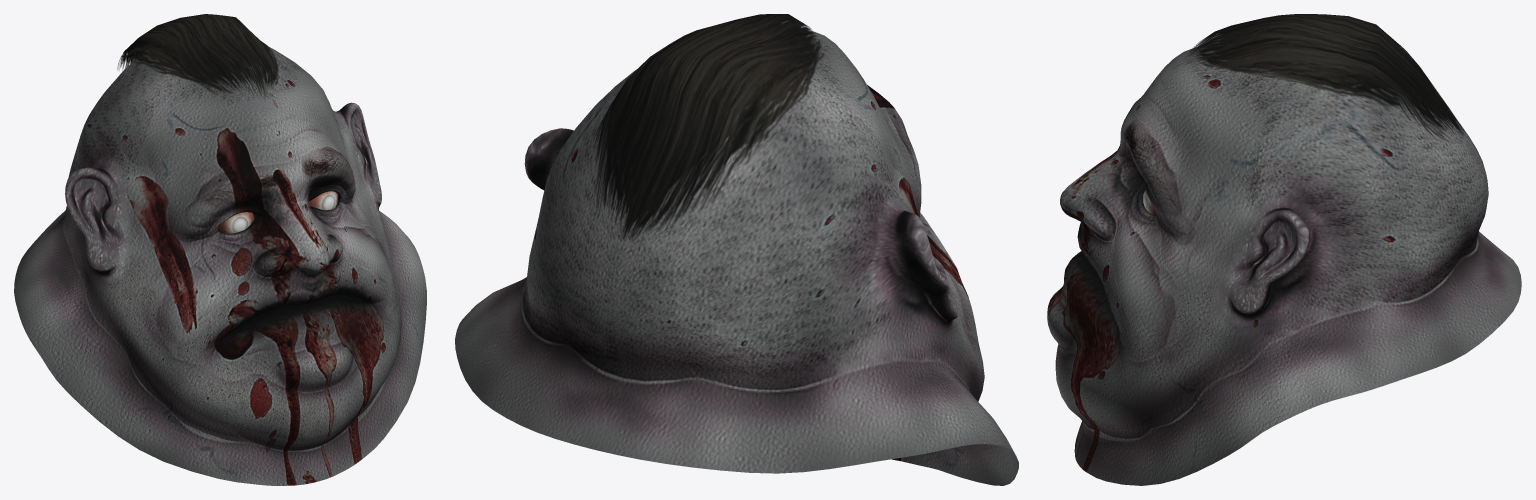
The model's file is zmb_hd.glb.
The picture shows the model from 3 angles, left to right: view 1: azimuth 30°, elevation 25°; view 2: azimuth 150°, elevation 25°; view 3: azimuth 270°, elevation 25°; orthographic projection. The views are drawn at different scales.
Parts seen in each view (by area): view 1: Object_2; view 2: Object_2; view 3: Object_2.
Boxes of the visible parts, left/top/right/bottom form: Object_2: left=14, top=14, right=426, bottom=485; Object_2: left=455, top=14, right=1018, bottom=485; Object_2: left=1047, top=14, right=1521, bottom=485.
Size of the model in its own units: 74.4 by 70.59 by 70.49.
Materials: 1 (1 with a texture image).
